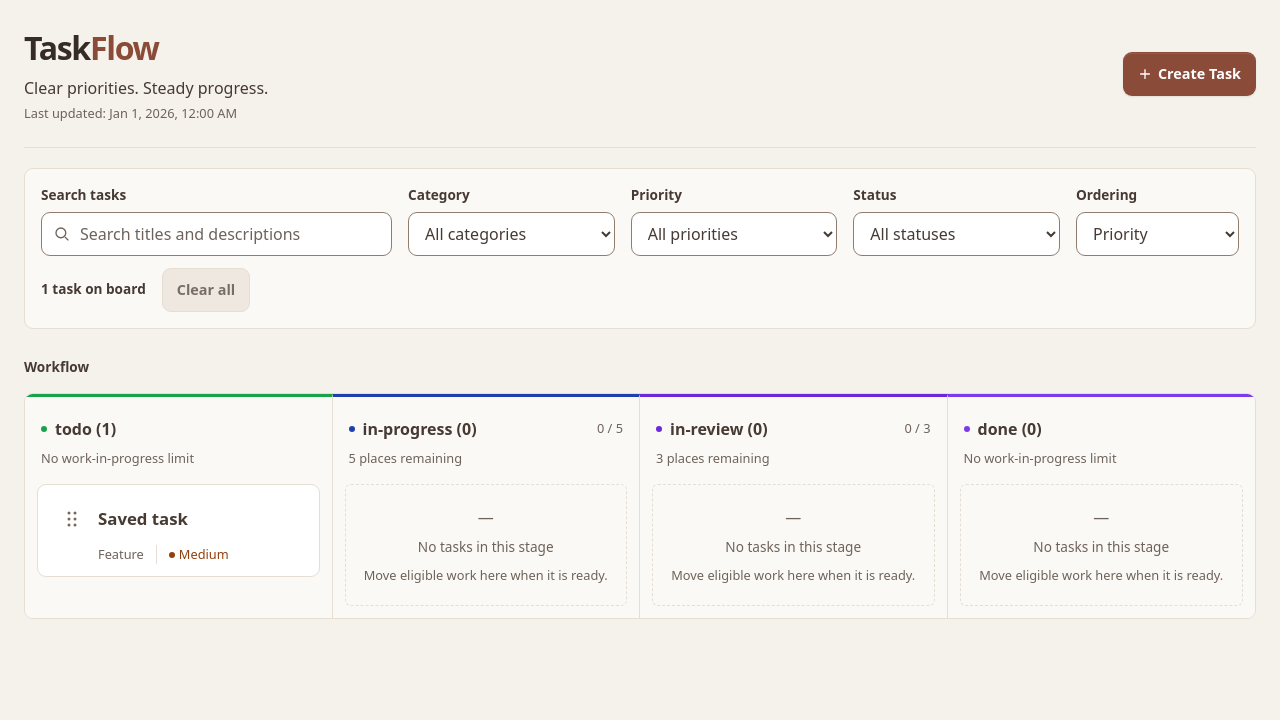
Test: reports a failed write, preserves the saved board, and only confirms saving after retry succeeds
Click the button with aria-label "Open task Saved task". click: (202,519)
box: [98, 497, 306, 541]
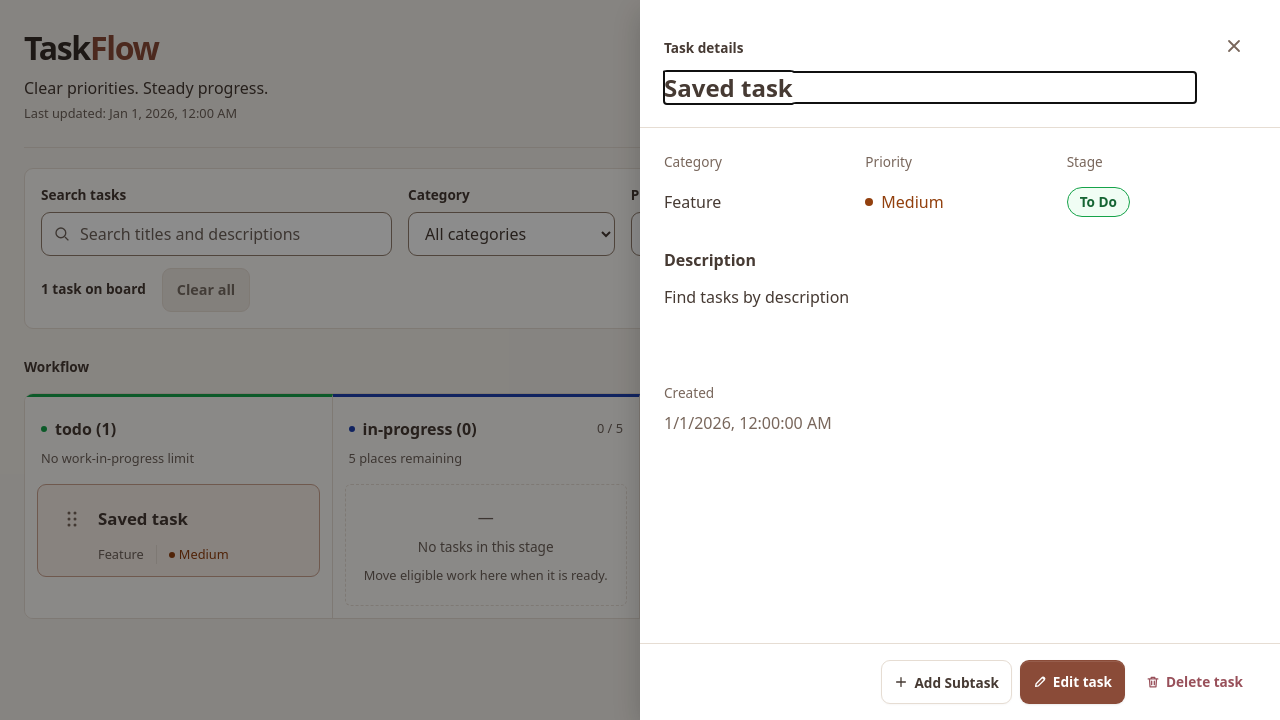
Click the button "Edit task". click: (1072,682)
box: [1020, 660, 1125, 704]
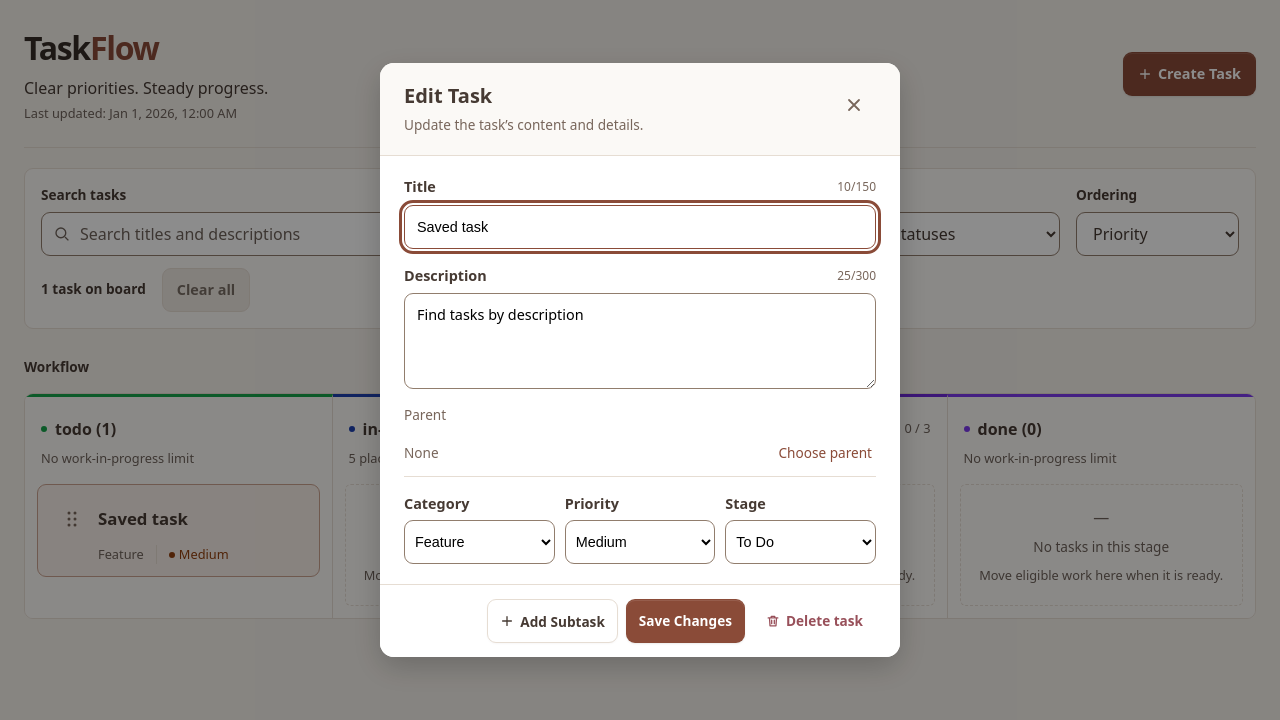
Type " updated" into the field labelled "Title". click: (640,227)
box: [404, 205, 876, 249]
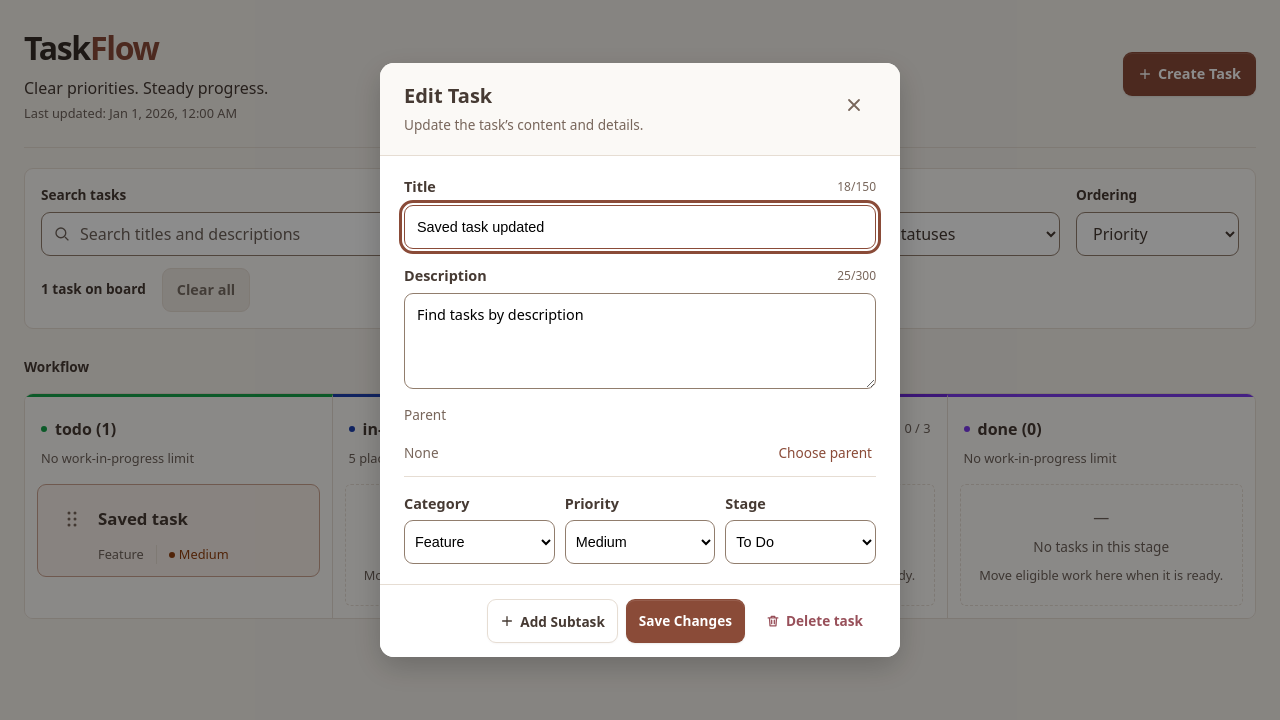
Click the button "Save Changes". click: (685,621)
box: [626, 599, 745, 643]
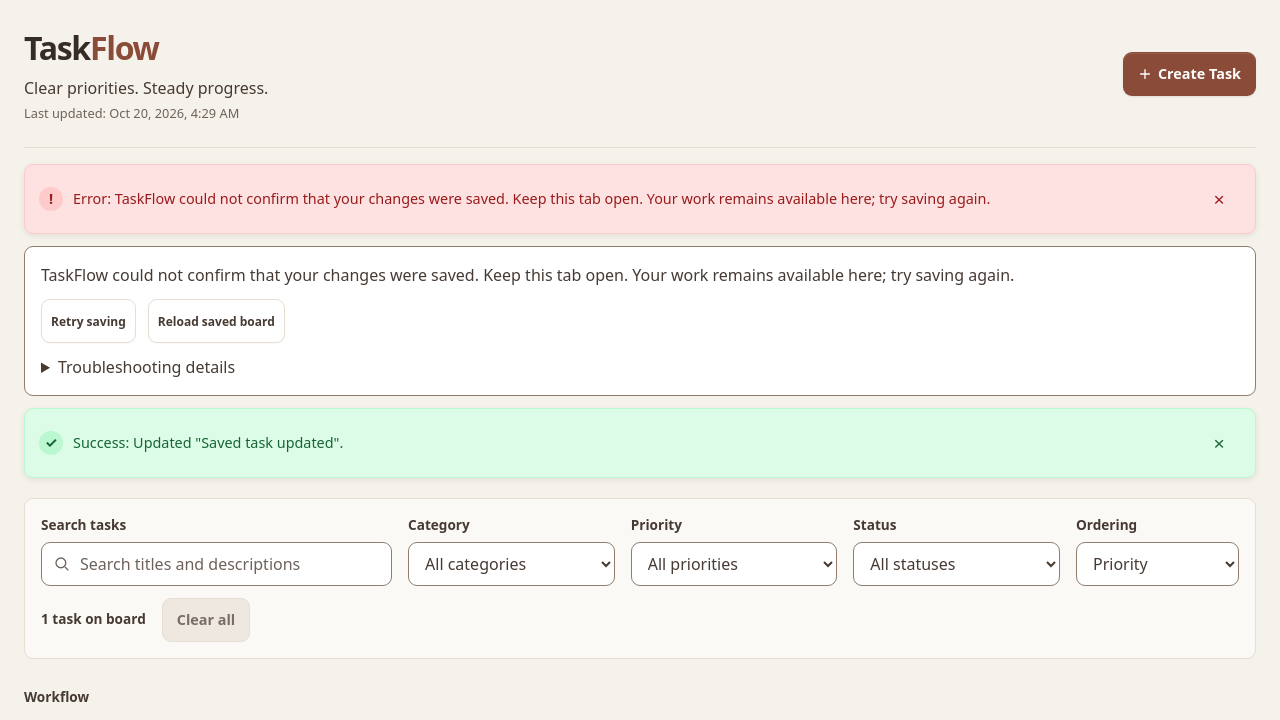
Now the message shows "could not confirm that your changes were saved", box [73, 189, 990, 208]
Click the button "Retry saving". click: (88,321)
box: [41, 299, 136, 343]
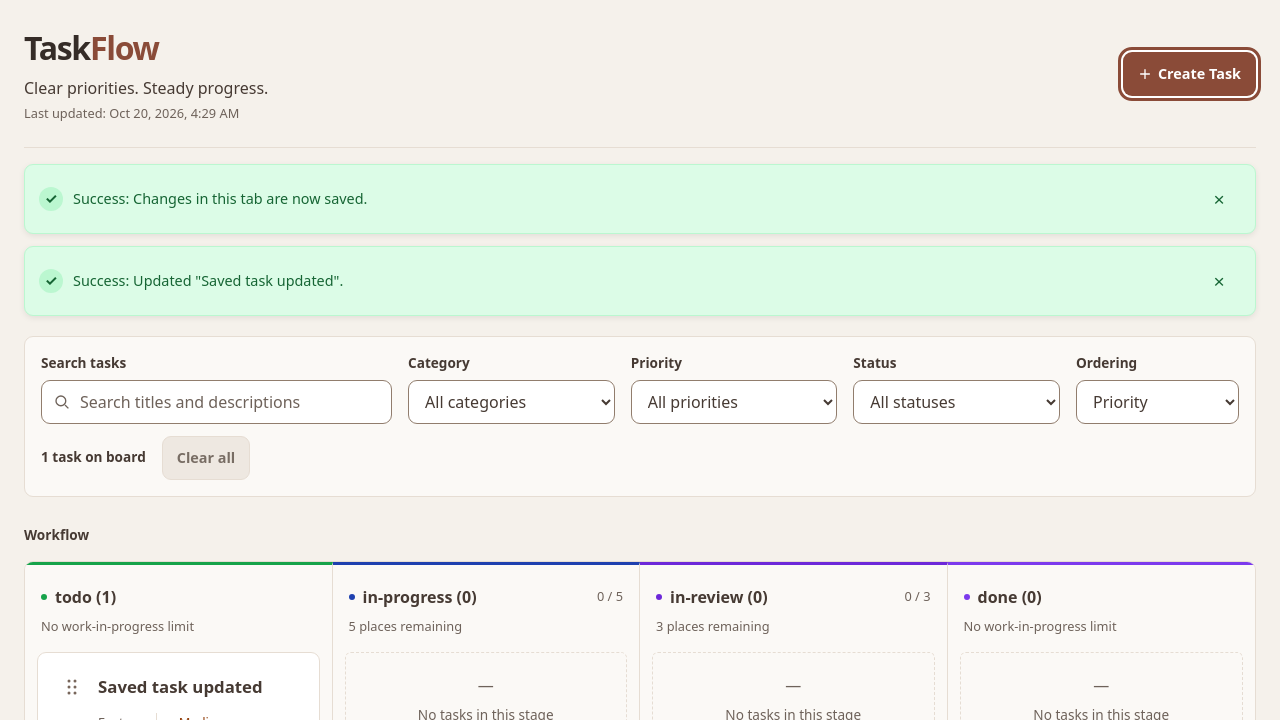
Now the button with aria-label "Open task Saved task updated" reads "Saved task updated", box [98, 665, 306, 709]
Now the message shows "Success:", box [73, 189, 367, 208]
